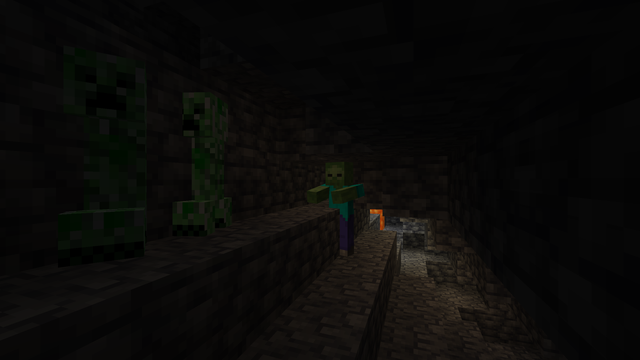creepers: (68, 32, 166, 264), (179, 81, 235, 235)
zombies: (324, 163, 357, 257)
